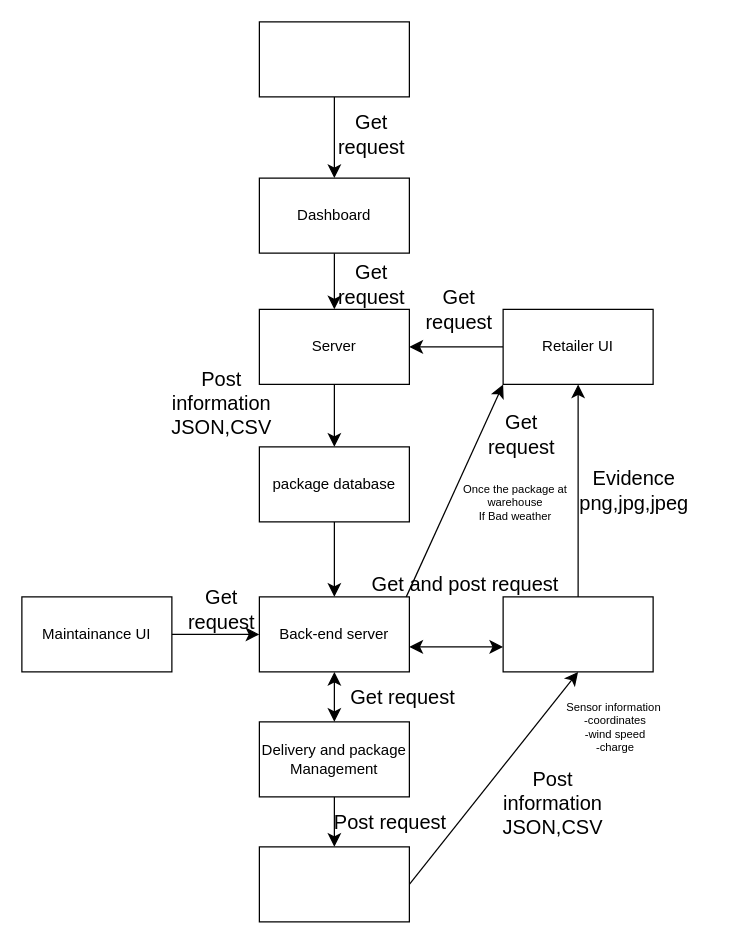
The diagram is 744 pixels wide and 944 high, and some of its shapes have lost their labels. Each missing label, with the centre of its shape:
"Cloud Drone Database" belongs at point (577, 634).
"Drone IOT" belongs at point (333, 884).
"UI" belongs at point (333, 59).
